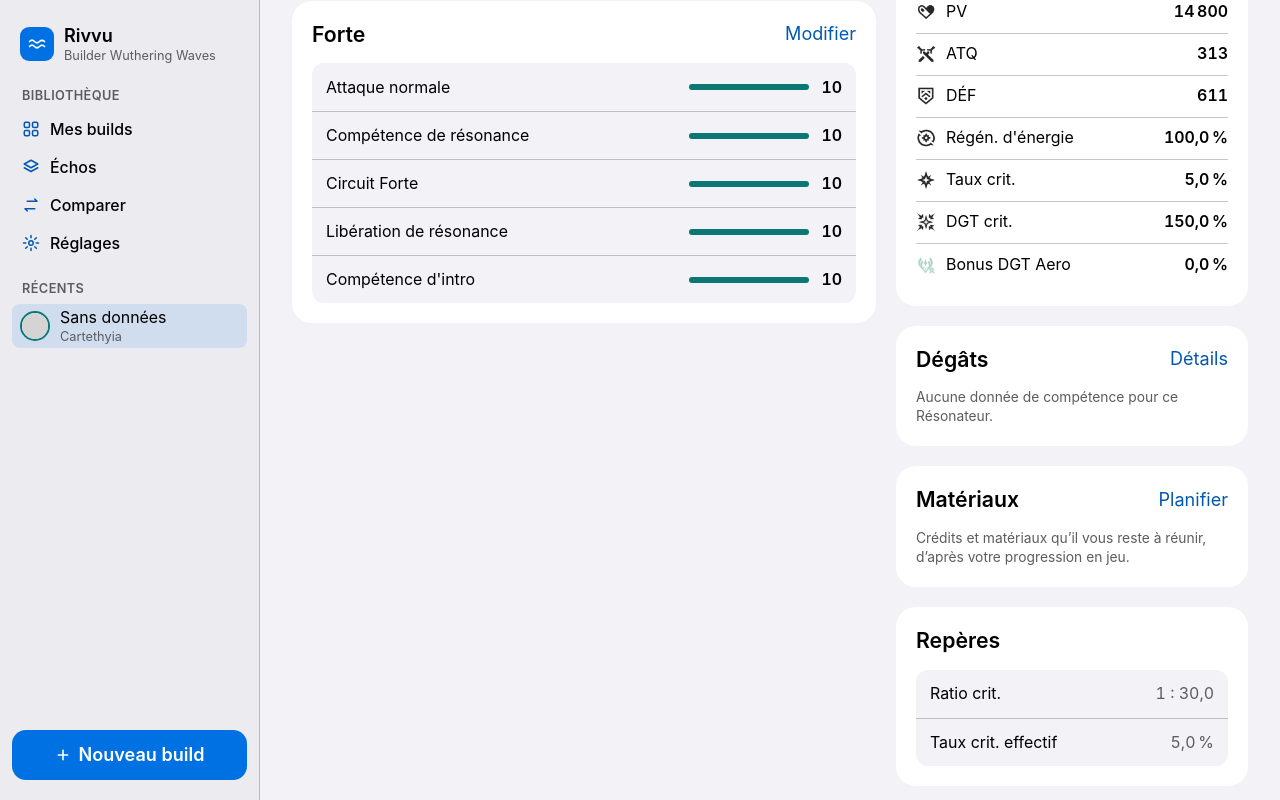
it: page Dégâts › signale un Résonateur sans données de compétences, ici comme sur la fiche
(page scrolled)
expect the text "Aucune donnée de compétence pour ce Résonateur." is shown: met, box [916, 389, 1178, 424]
Click the link "Détails": click(1199, 359) [1170, 347, 1228, 371]
(page scrolled)
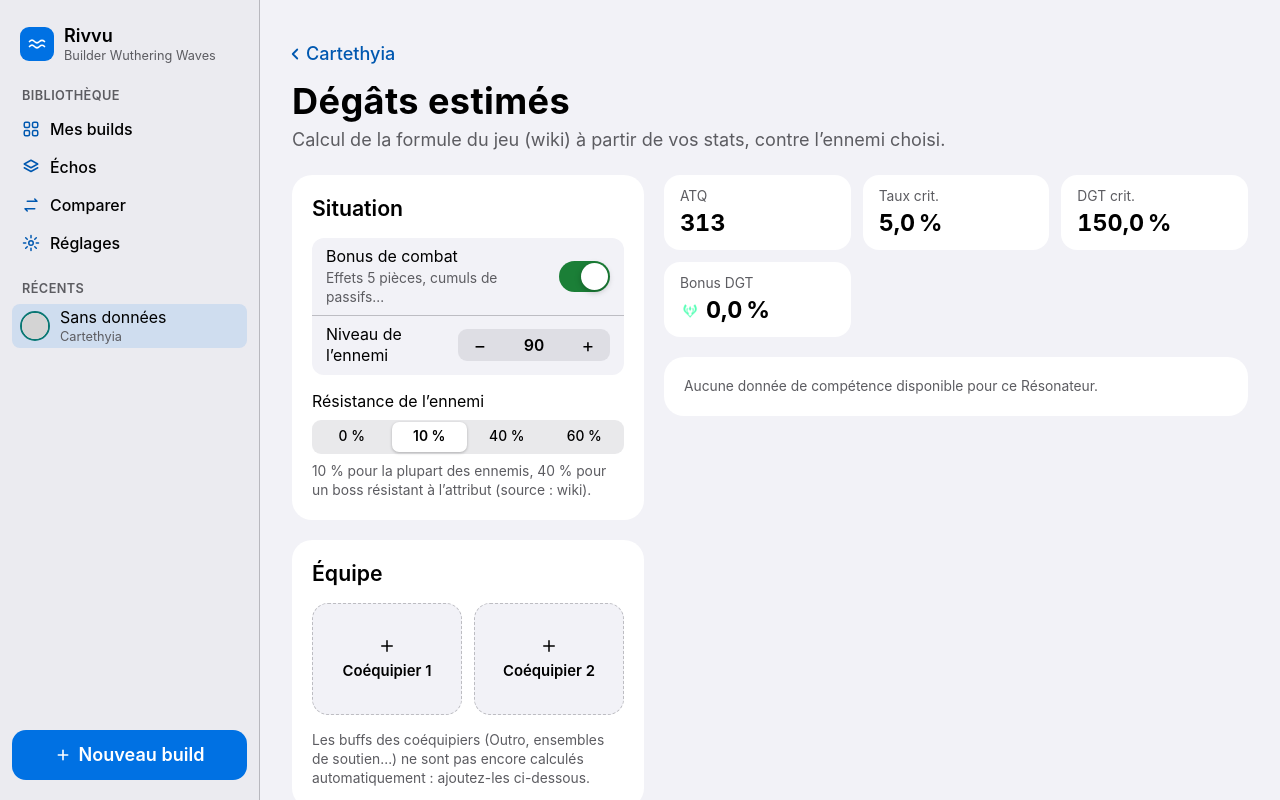
expect the text "Aucune donnée de compétence disponible pour ce Résonateur." is shown: met, box [684, 378, 1098, 394]
